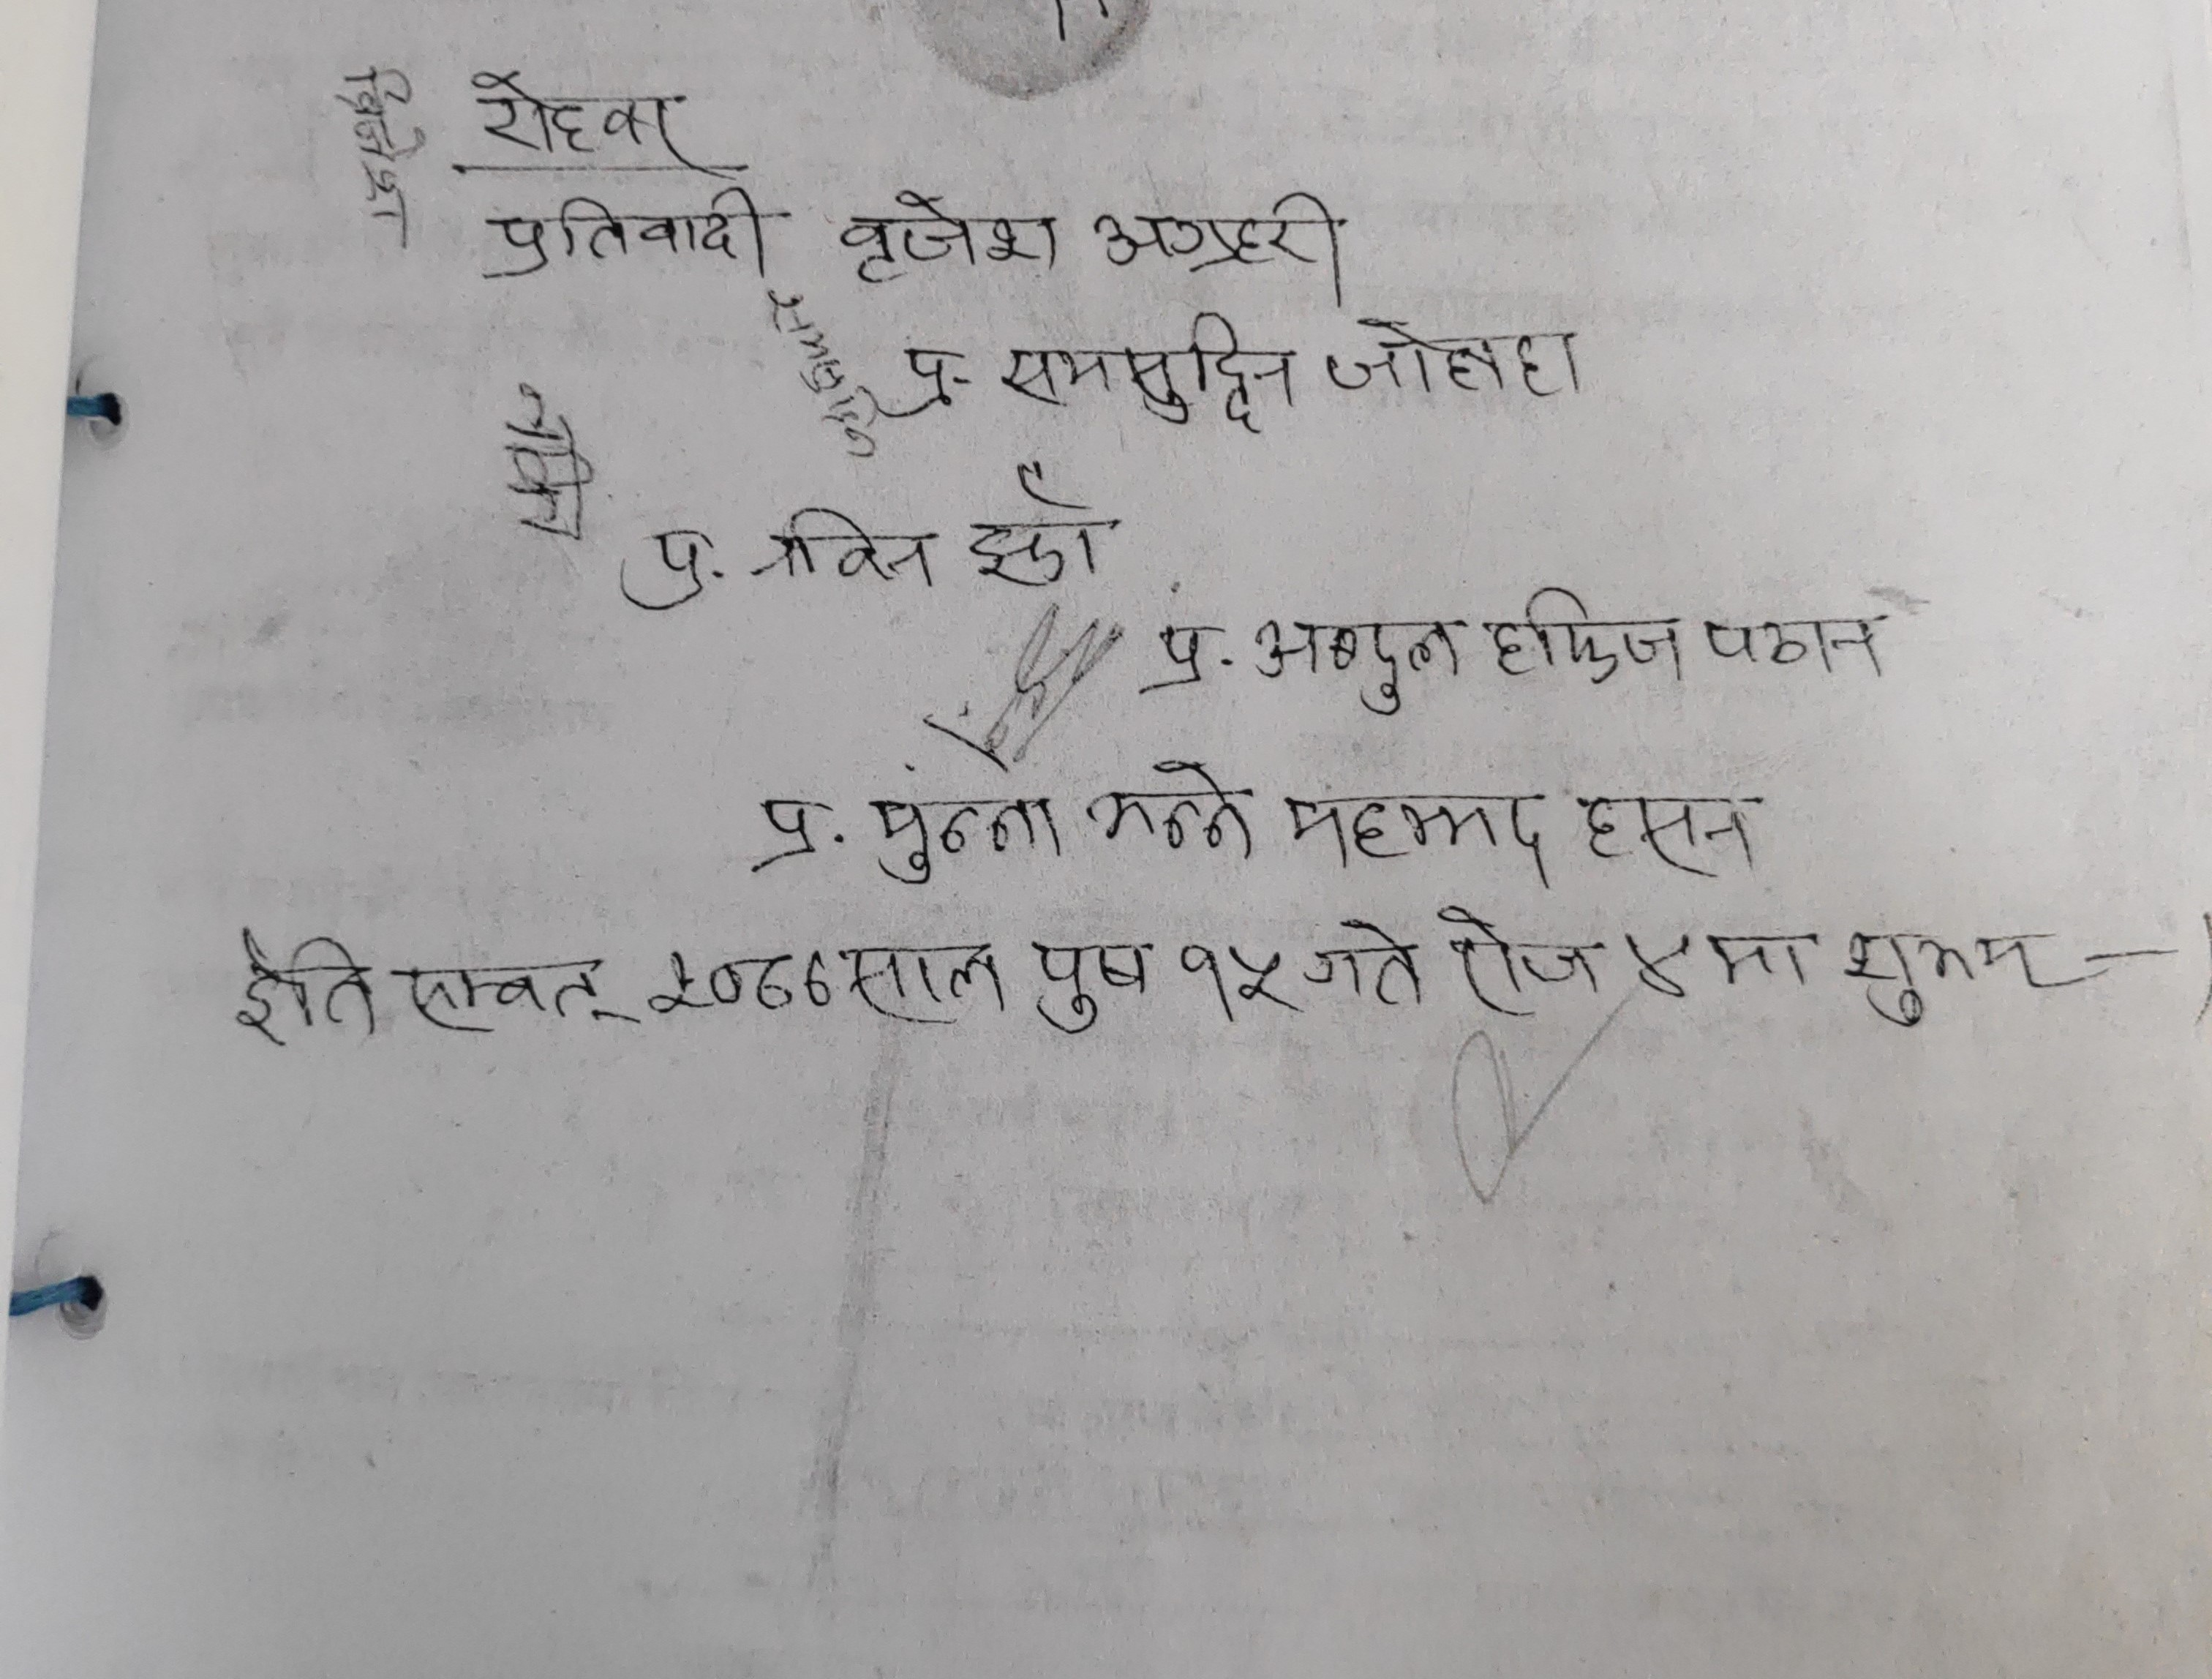text: (215, 931, 643, 1046), (985, 305, 1304, 430), (1137, 608, 1465, 720), (627, 501, 934, 614), (747, 790, 1065, 891), (1281, 785, 1560, 891), (479, 189, 774, 280), (1833, 917, 2078, 1026), (460, 62, 709, 162), (830, 183, 1070, 287), (1322, 316, 1597, 406), (1089, 192, 1357, 284), (1428, 899, 1609, 1021), (1486, 584, 1692, 690), (1091, 755, 1262, 875), (959, 455, 1110, 584), (1570, 788, 1770, 877), (844, 940, 1012, 1037), (650, 942, 842, 1023), (1696, 601, 1893, 679), (1288, 915, 1429, 1021), (1021, 931, 1151, 1035), (1176, 935, 1294, 1037), (1704, 915, 1817, 1005), (888, 335, 969, 425), (1620, 921, 1696, 1005)
